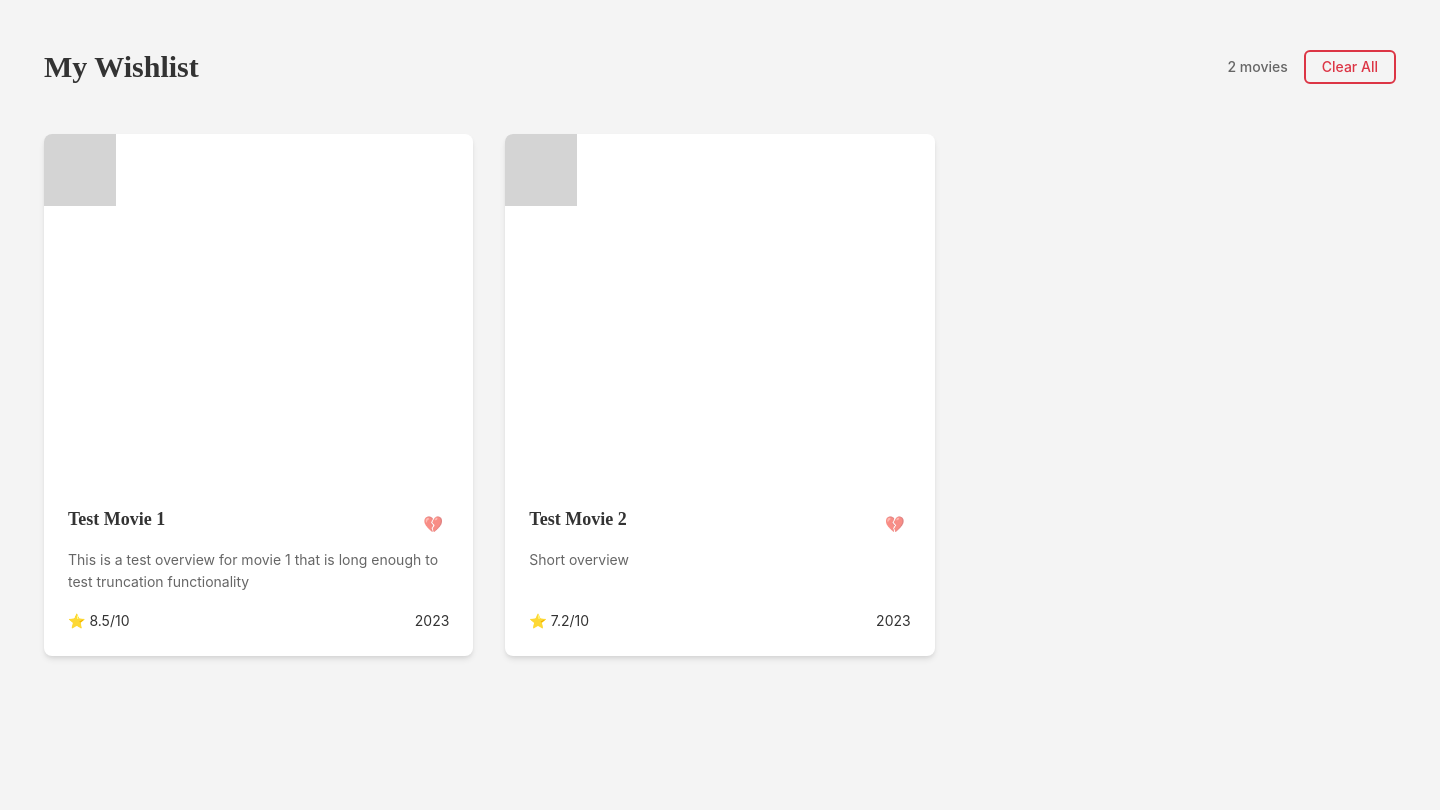
WishlistPage › Remove Actions › should close modal when clicking backdrop
Note: Click clear all to open modal
Step 1. Click the button "Clear All" → (1350, 67), box [1304,50,1396,84]
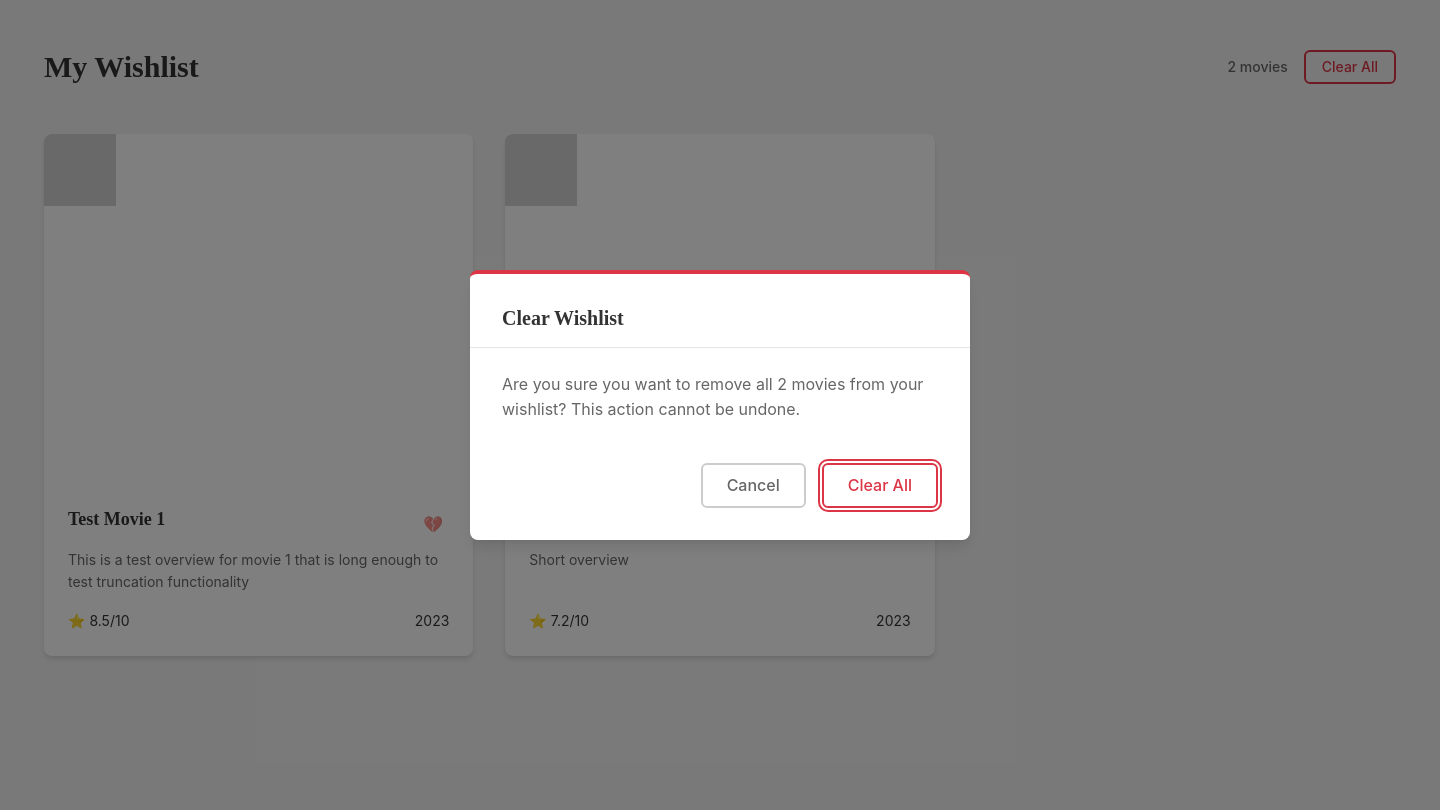
Step 2. Click the element with class "confirmation-modal-overlay" → (86, 405), box [0,0,1439,809]
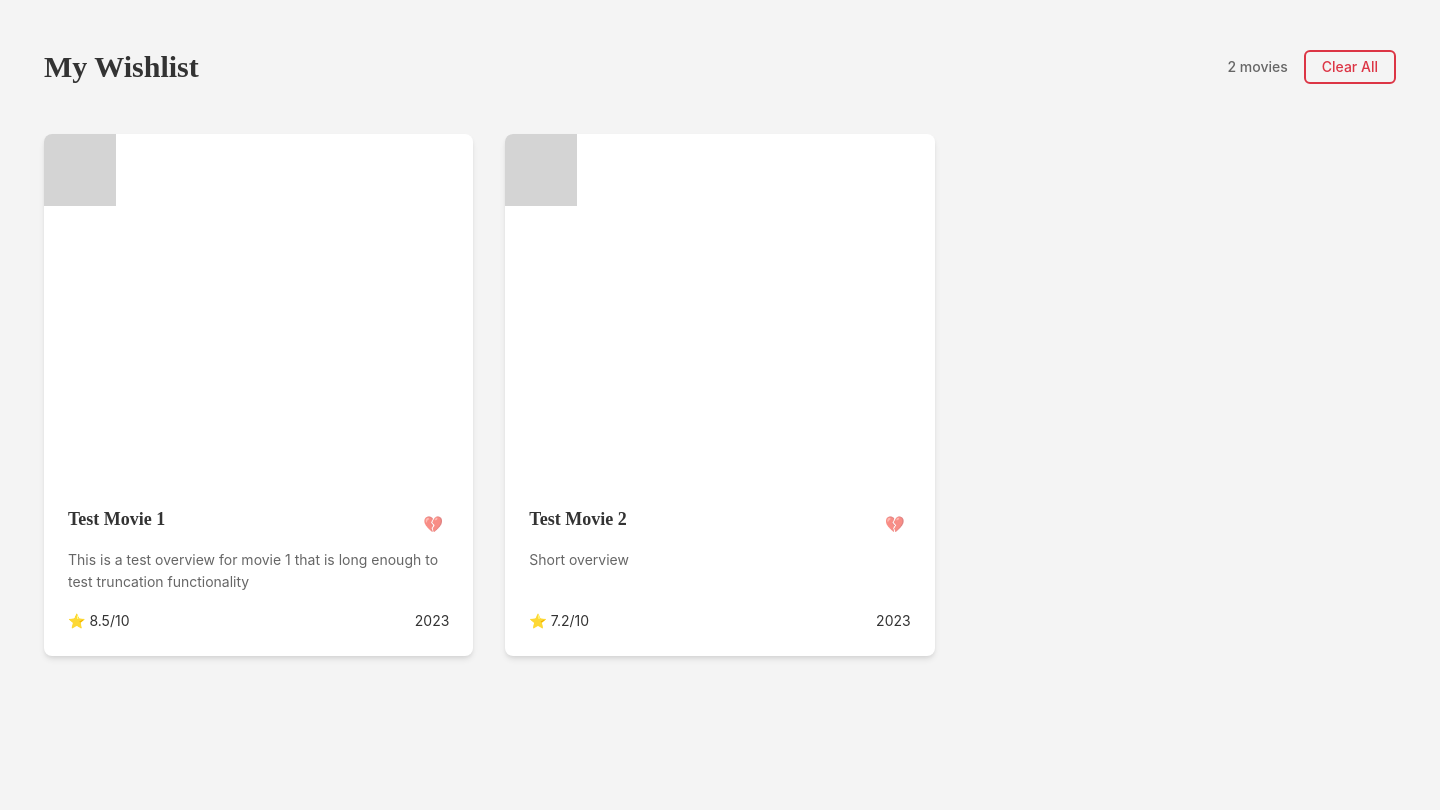
Now the heading "Clear Wishlist" is gone
